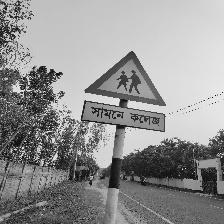College-in-front: (70, 37, 176, 155)
